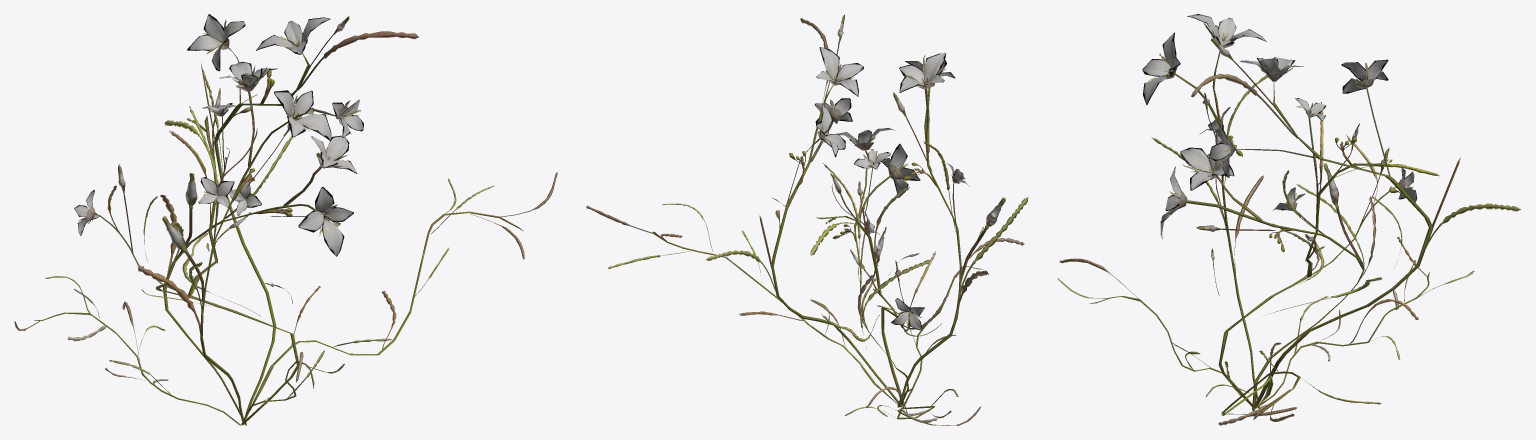
Rendered from flower_heliophila.glb.
3 views of the same model, side by side, from view 1: azimuth 30°, elevation 25°; view 2: azimuth 150°, elevation 25°; view 3: azimuth 270°, elevation 25° (orthographic). The views are drawn at different scales.
Visible parts, largest first — view 1: flower_heliophila_small; view 2: flower_heliophila_small; view 3: flower_heliophila_small.
Part boxes in pixels (x1=…): flower_heliophila_small: x1=14, y1=14, x2=557, y2=425; flower_heliophila_small: x1=586, y1=14, x2=1028, y2=425; flower_heliophila_small: x1=1057, y1=14, x2=1520, y2=425.
Bounding box in the file's own units: 0.343 × 0.2697 × 0.2737.
Materials: 1 (1 with a texture image).
